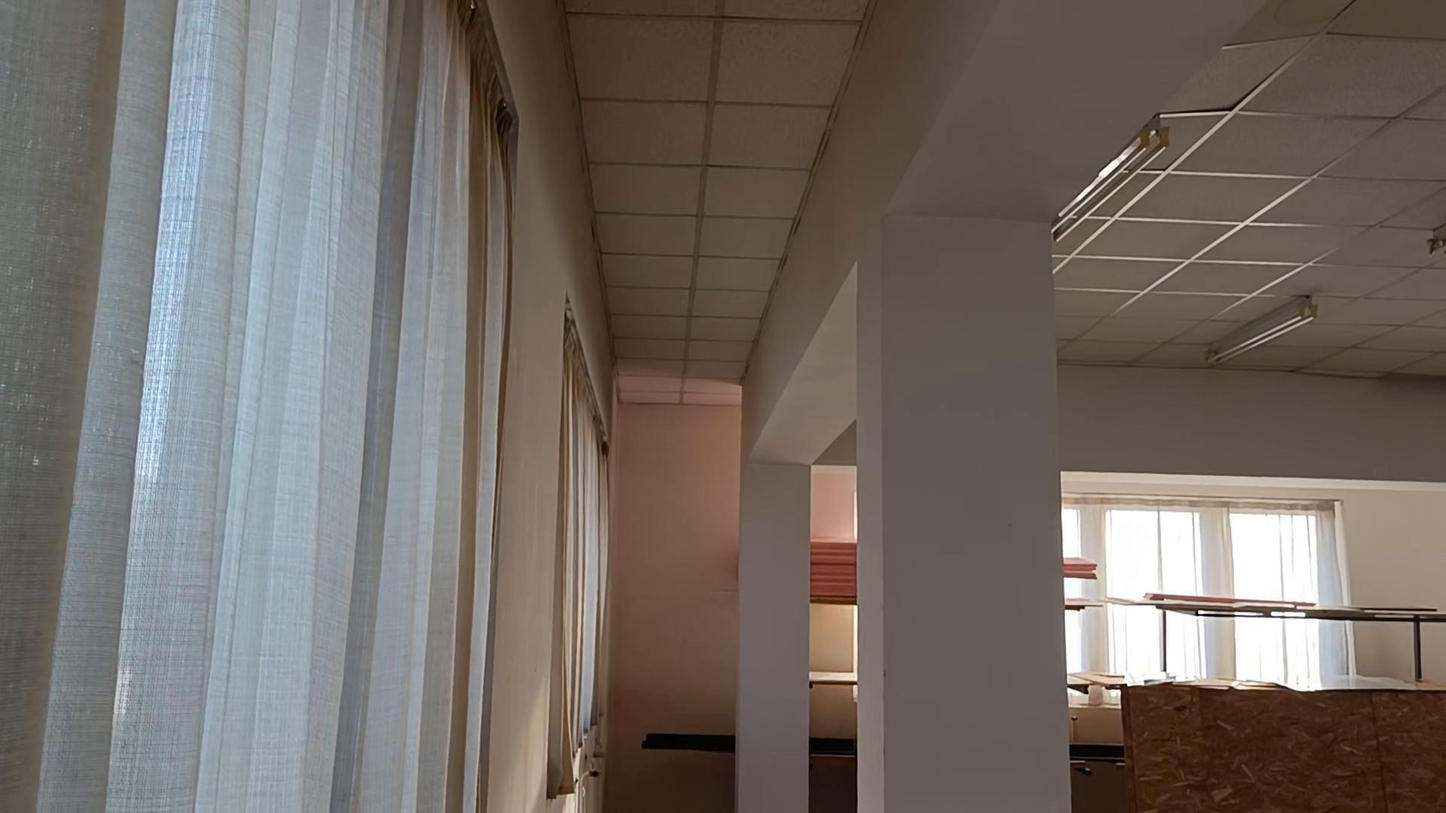ceiling: (1058, 3, 1445, 374), (560, 8, 872, 413)
wall: (737, 1, 1267, 812), (491, 0, 618, 812), (1061, 375, 1441, 605), (608, 409, 741, 809)
